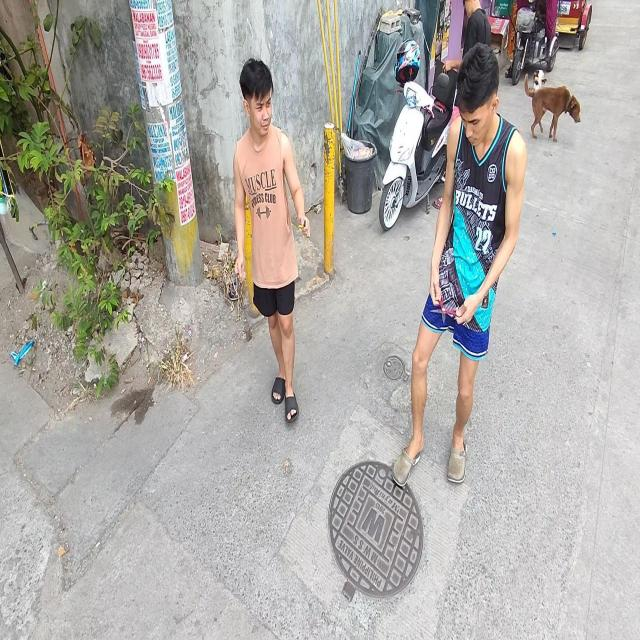scissor: (432, 296, 456, 322), (299, 220, 306, 232)
